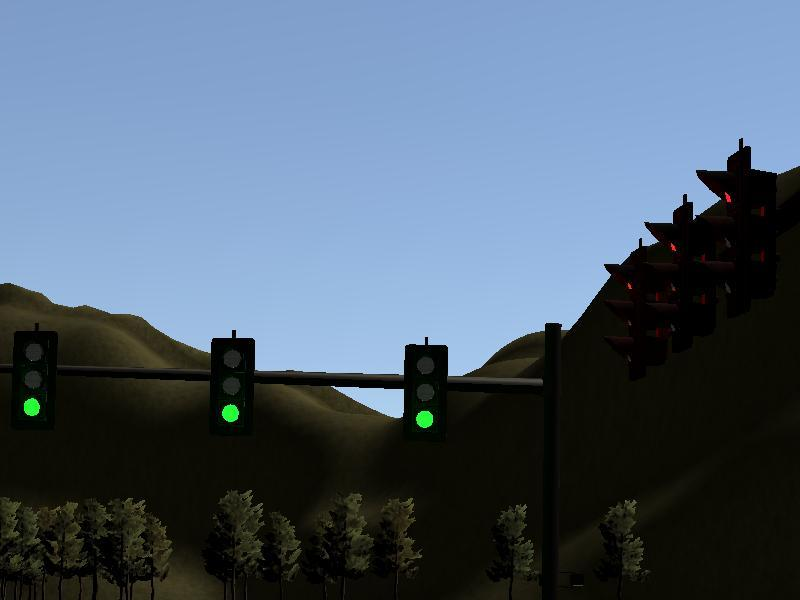Green: (12, 330, 57, 431), (402, 345, 448, 441), (210, 338, 255, 435)
